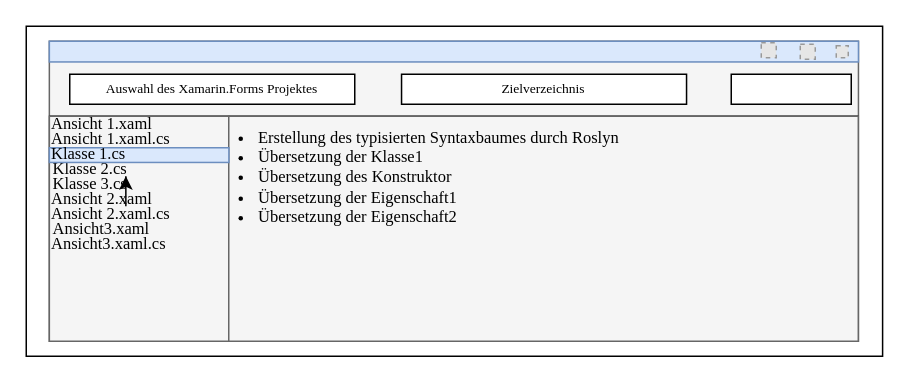
Some shapes in this 909 by 383 pixel diagram are drawn without their labels. Grey dashed boxes stand in for pictures. Here are the shapes that lost their labels. From the top down, the centre of each, then its label:
At (x=453, y=51): "Source-To-Source Compiler".
At (x=790, y=88): "Übersetzung starten".
